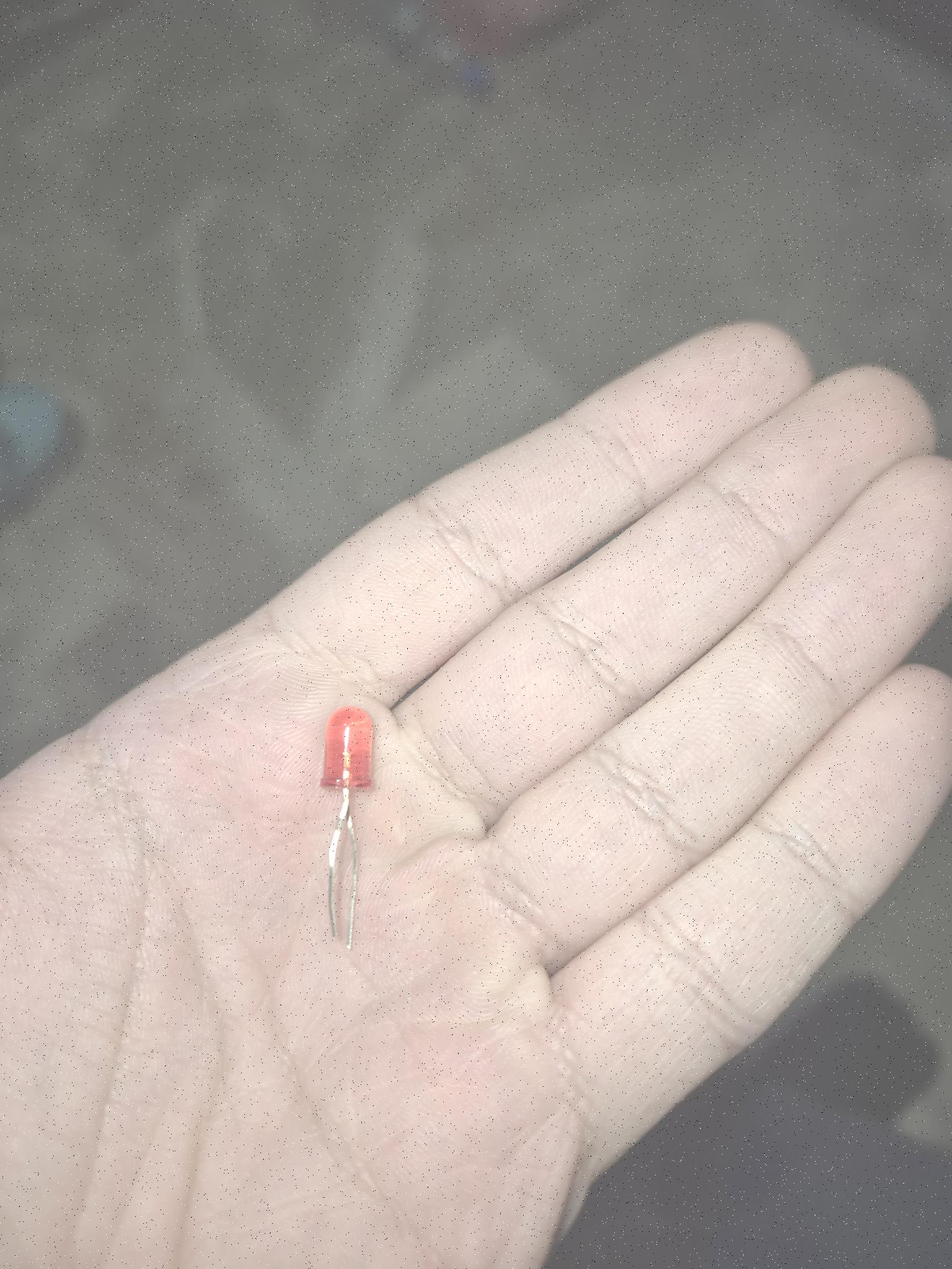led-diode: (320, 706, 373, 949)
